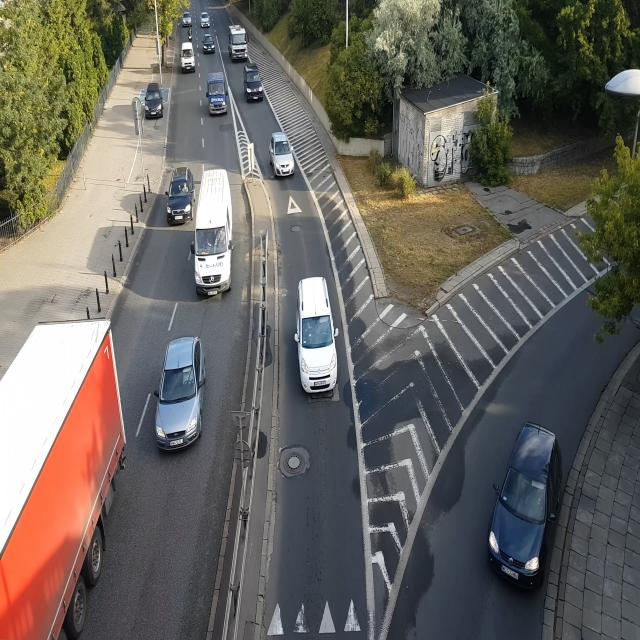car: (490, 412, 565, 590), (190, 162, 238, 298), (294, 271, 342, 397), (156, 337, 204, 453), (163, 162, 196, 223), (266, 132, 300, 180), (205, 74, 232, 119), (242, 63, 268, 105), (177, 44, 200, 76), (146, 83, 162, 124), (202, 31, 217, 56), (202, 9, 212, 29), (180, 12, 190, 27)
motorcycle: (183, 26, 196, 44)
truck: (0, 318, 132, 640), (224, 25, 253, 60)
